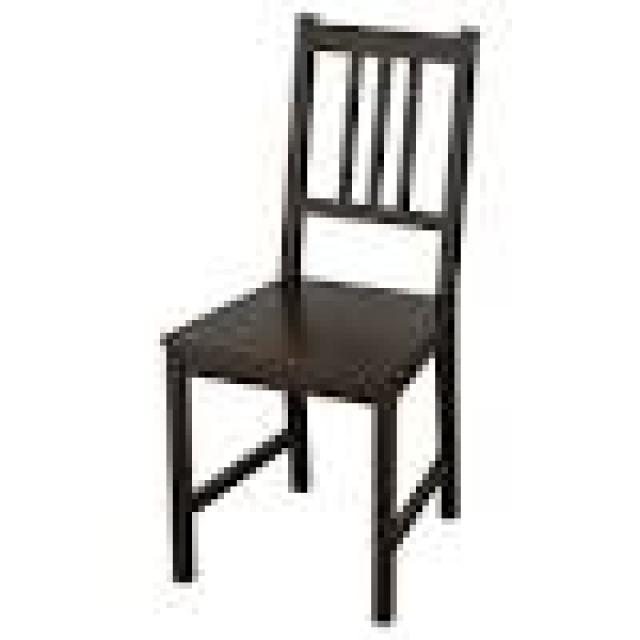obstacle: (134, 6, 487, 640)
